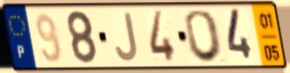4: (227, 6, 257, 66), (148, 9, 178, 64)
8: (66, 9, 99, 67)
9: (35, 11, 64, 65)
J: (113, 11, 140, 64)
O: (183, 9, 226, 65)
